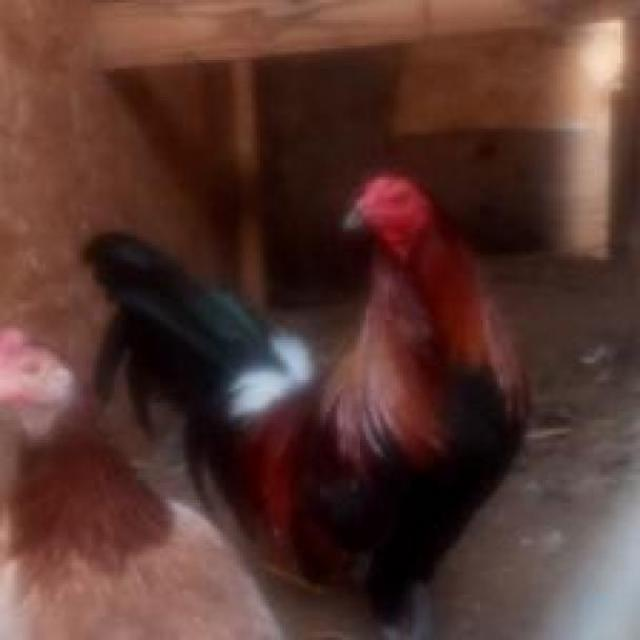Chicken: (74, 172, 621, 640)
